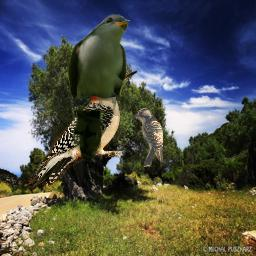Cuckoo: (67, 14, 130, 161)
Woodpecker: (23, 70, 137, 192), (132, 108, 163, 167)
